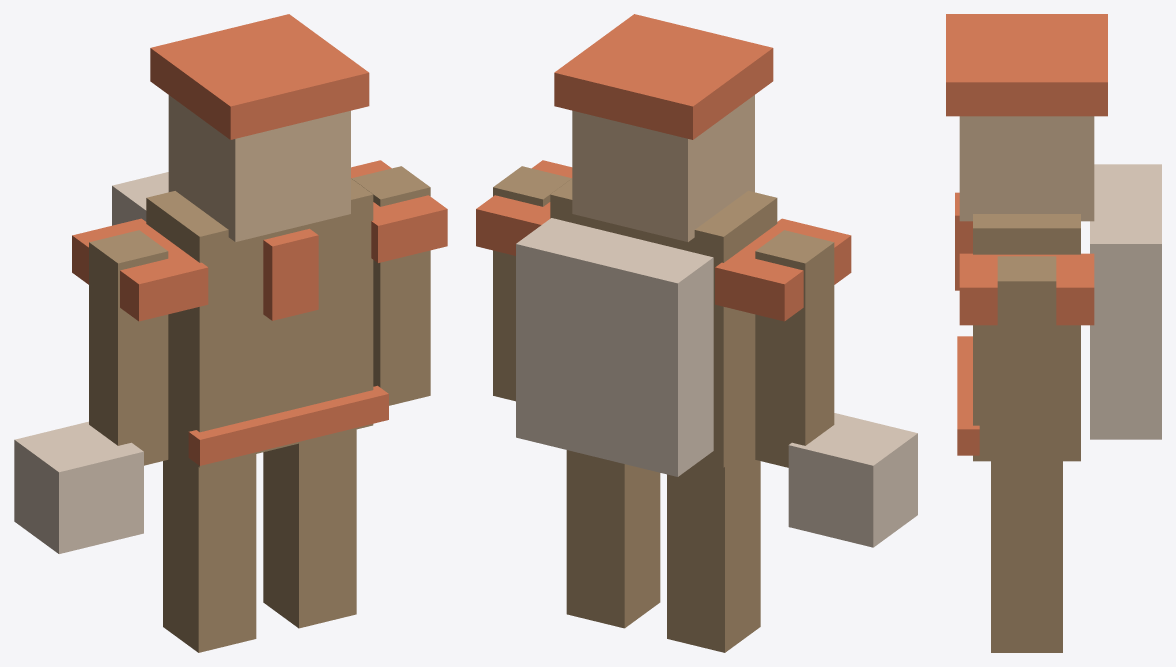
Rendered from 15_zerin_deepwell_specialist_at_deep.glb.
3 renders of one model, left to right at view 1: azimuth 30°, elevation 25°; view 2: azimuth 150°, elevation 25°; view 3: azimuth 270°, elevation 25°, orthographic.
Visible parts, largest first — view 1: Zerin Deepwell, Specialist at Deep; view 2: Zerin Deepwell, Specialist at Deep; view 3: Zerin Deepwell, Specialist at Deep.
Boxes of the visible parts, x1=… form: Zerin Deepwell, Specialist at Deep: x1=14, y1=14, x2=447, y2=652; Zerin Deepwell, Specialist at Deep: x1=476, y1=14, x2=917, y2=652; Zerin Deepwell, Specialist at Deep: x1=946, y1=14, x2=1161, y2=652.
Size of the model in its own units: 1.04 by 1.46 by 0.5031.
